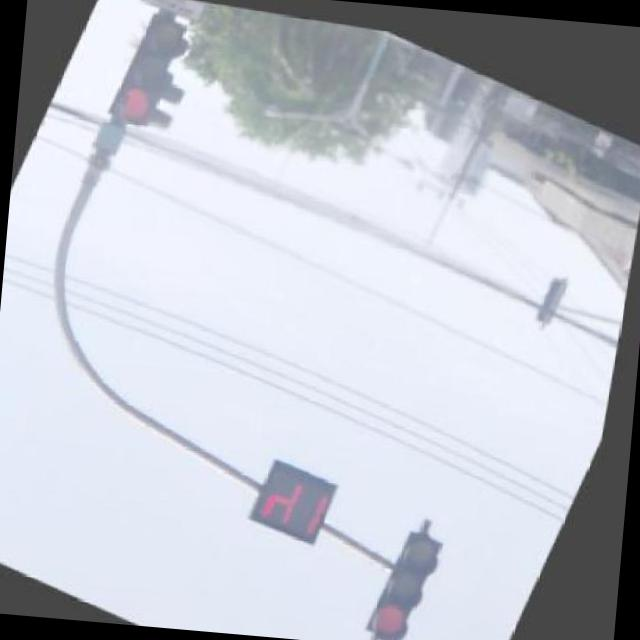red-lights: (111, 74, 162, 132), (370, 602, 403, 640)
